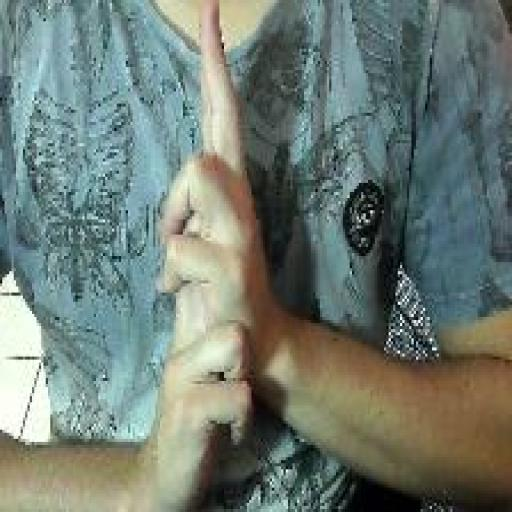Hitsuji -ram-: (148, 0, 273, 509)
